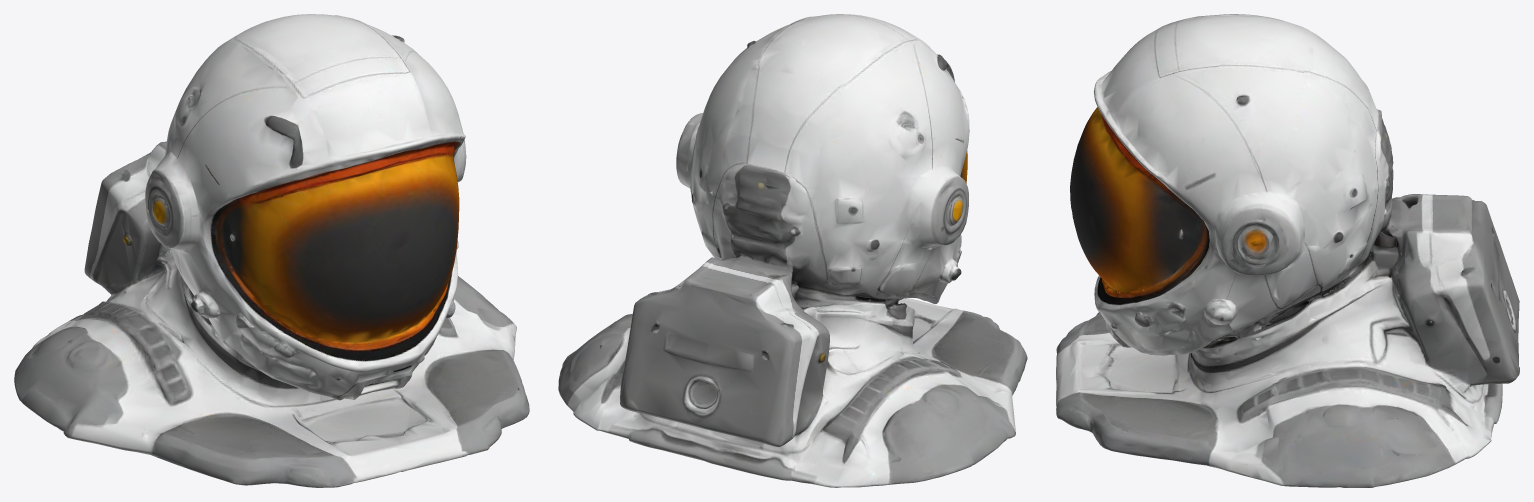
Rendered from apex-cosmos-casco.glb.
The picture shows the model from 3 angles, left to right: view 1: azimuth 30°, elevation 25°; view 2: azimuth 150°, elevation 25°; view 3: azimuth 270°, elevation 25°; orthographic projection. The views are drawn at different scales.
Bounding box in the file's own units: 2 × 1.57 × 1.86.
1 material, 1 textured.
